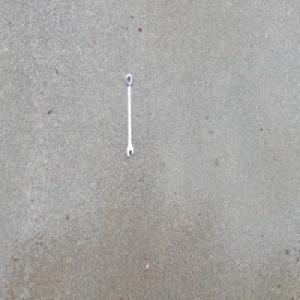Wrench: (124, 72, 134, 158)
